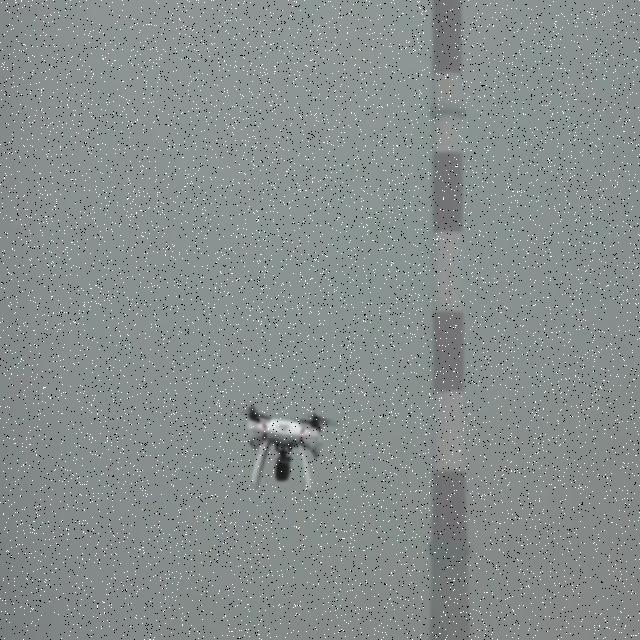UAV: (241, 404, 327, 499)
